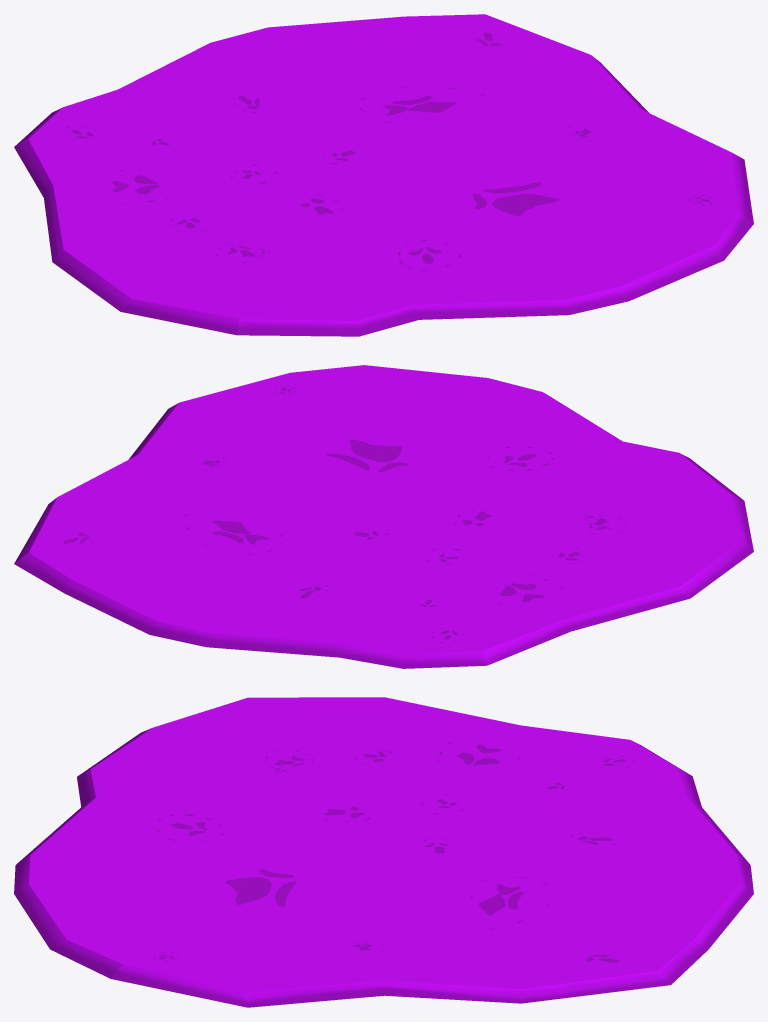
Rendered from konnseki_Doku.fbx.
3 views of the same model, one above another, from view 1: azimuth 30°, elevation 25°; view 2: azimuth 150°, elevation 25°; view 3: azimuth 270°, elevation 25° (orthographic). The views are drawn at different scales.
Visible parts, largest first — view 1: doku; view 2: doku; view 3: doku.
Boxes of the visible parts, left/top/right/bottom form: doku: left=14, top=14, right=753, bottom=336; doku: left=14, top=365, right=753, bottom=668; doku: left=14, top=697, right=753, bottom=1007.
Size of the model in its own units: 67.31 by 1 by 68.7.
Materials: 1 (1 with a texture image).
